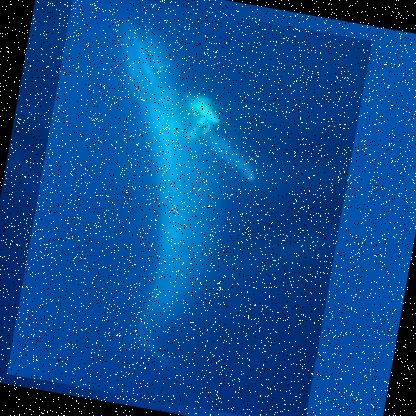blue_whale: (4, 0, 371, 415)
